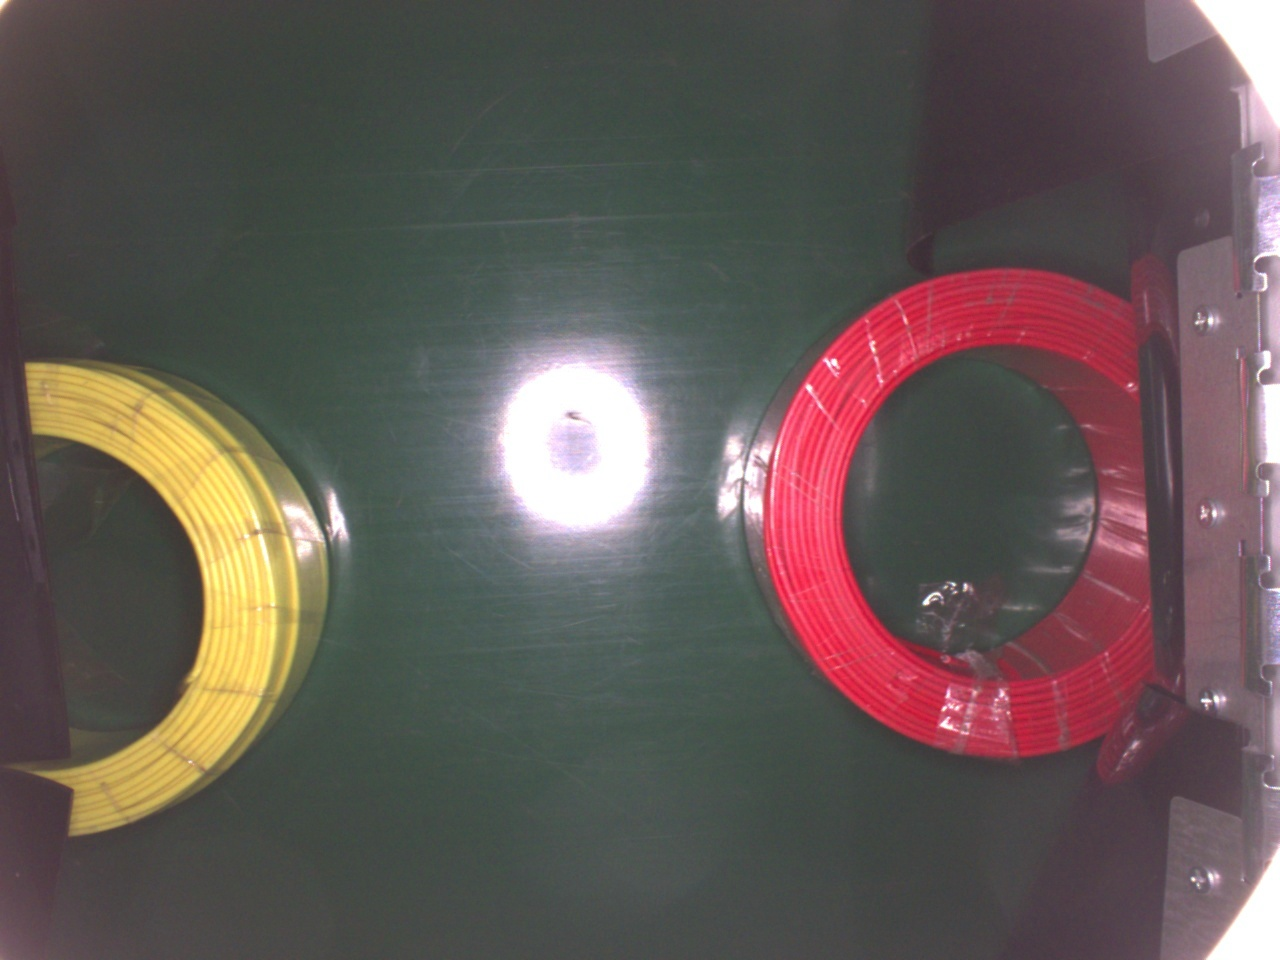red: (738, 259, 1155, 761)
yellow: (4, 343, 336, 843)
